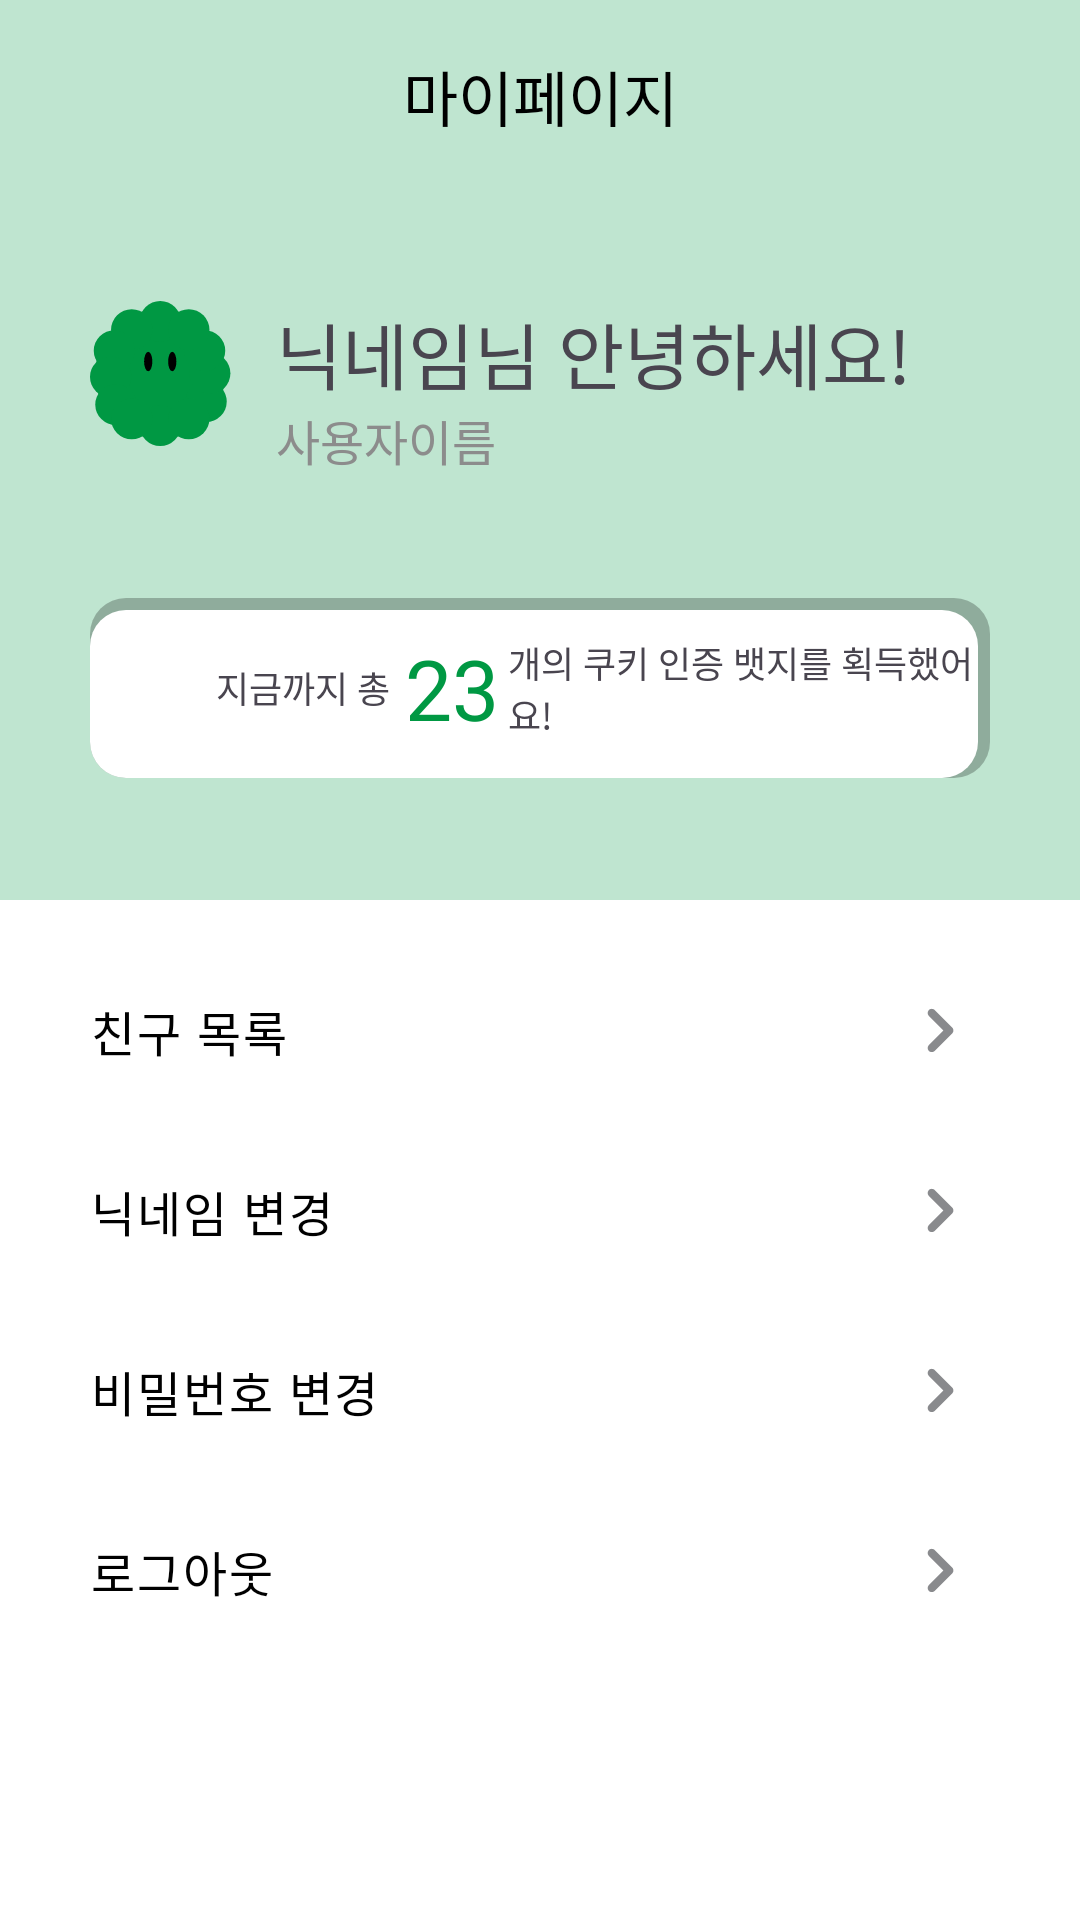

Where icons sit on this 1080*1920 app screen, as (x1, y1, x2, y2):
uil angle right: (927, 1009, 954, 1052), (927, 1189, 954, 1232), (927, 1369, 954, 1412), (927, 1549, 954, 1592)
